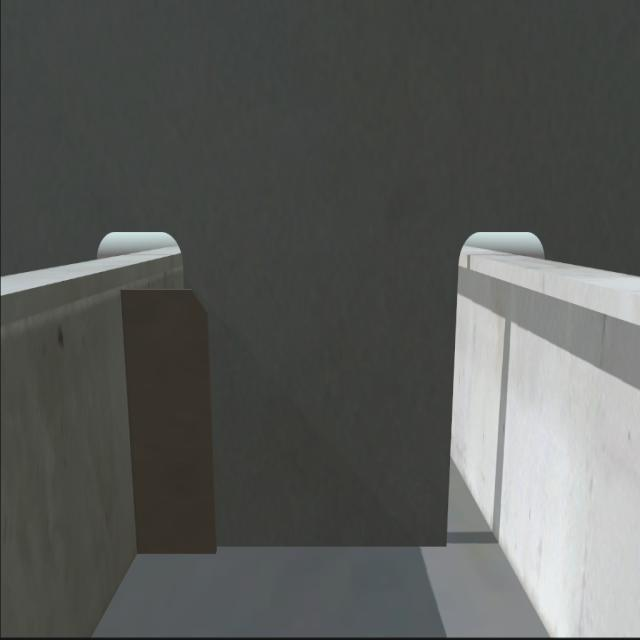fillet_yong_jeop_jang: (137, 537, 450, 563)
longi_yong_jeop_jang: (115, 286, 146, 560)
plate_CP03: (121, 286, 218, 550)
